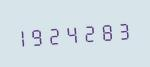eight: (97, 18, 112, 44)
four: (65, 20, 80, 46)
nine: (33, 22, 48, 48)
one: (17, 24, 32, 49)
three: (113, 17, 128, 43)
two: (49, 21, 64, 47), (81, 19, 96, 45)
